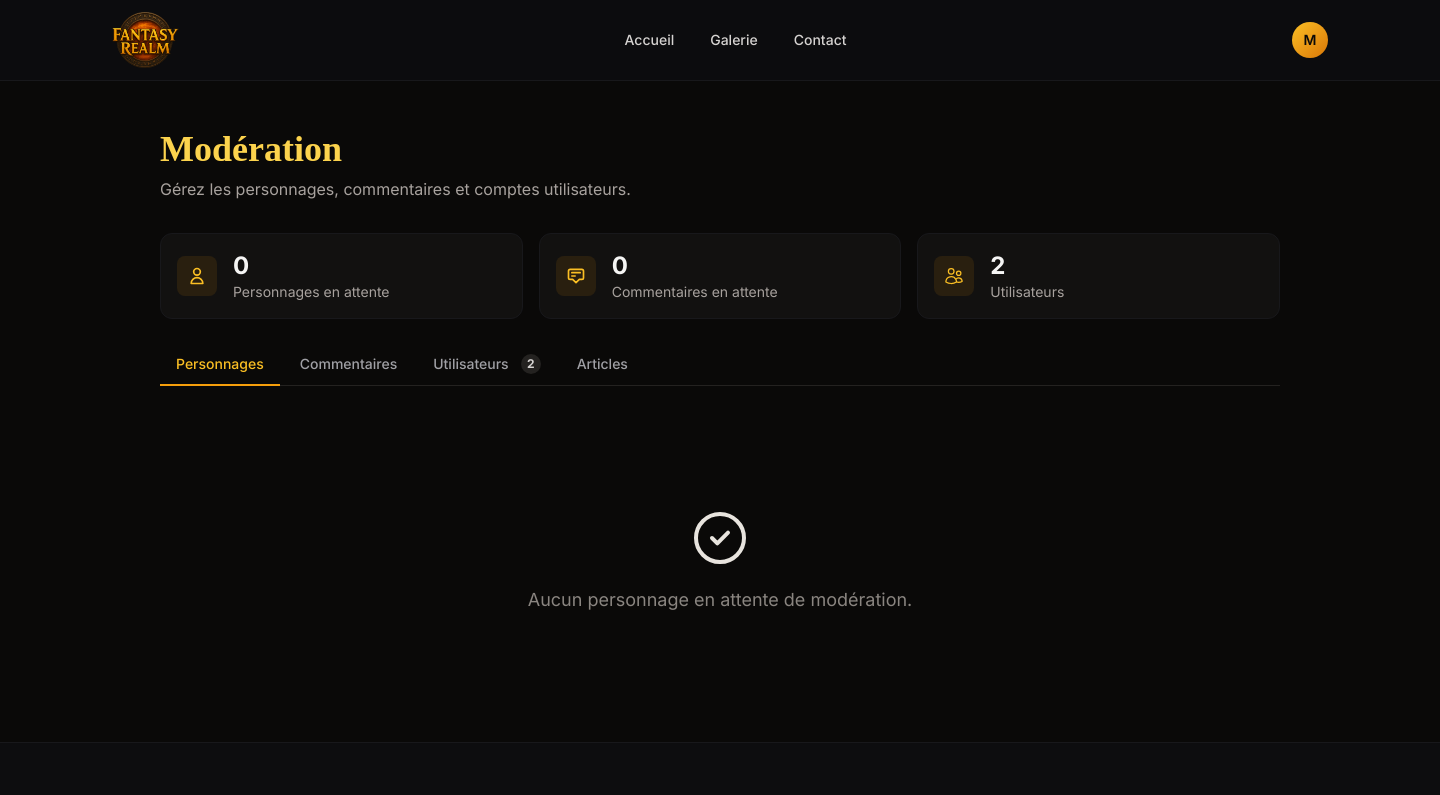
Test: ModerationPage › users tab › should show empty message when no users match search
The width and height of the screenshot is (1440, 795).
Click the tab "Utilisateurs 2". click: (487, 364)
box: [417, 343, 557, 386]
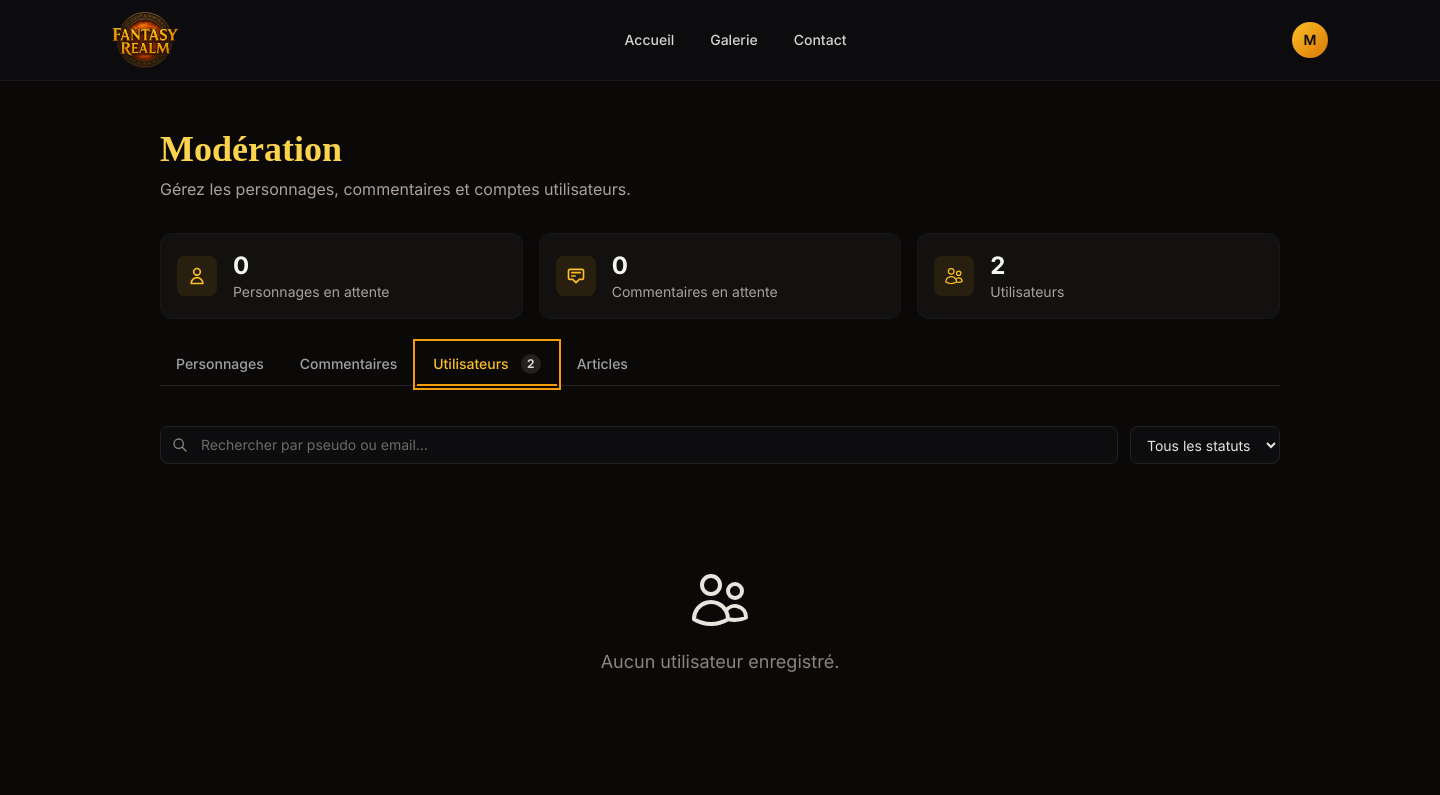
Check: the text "Aucun utilisateur enregistré." is shown, box [601, 651, 839, 672]
